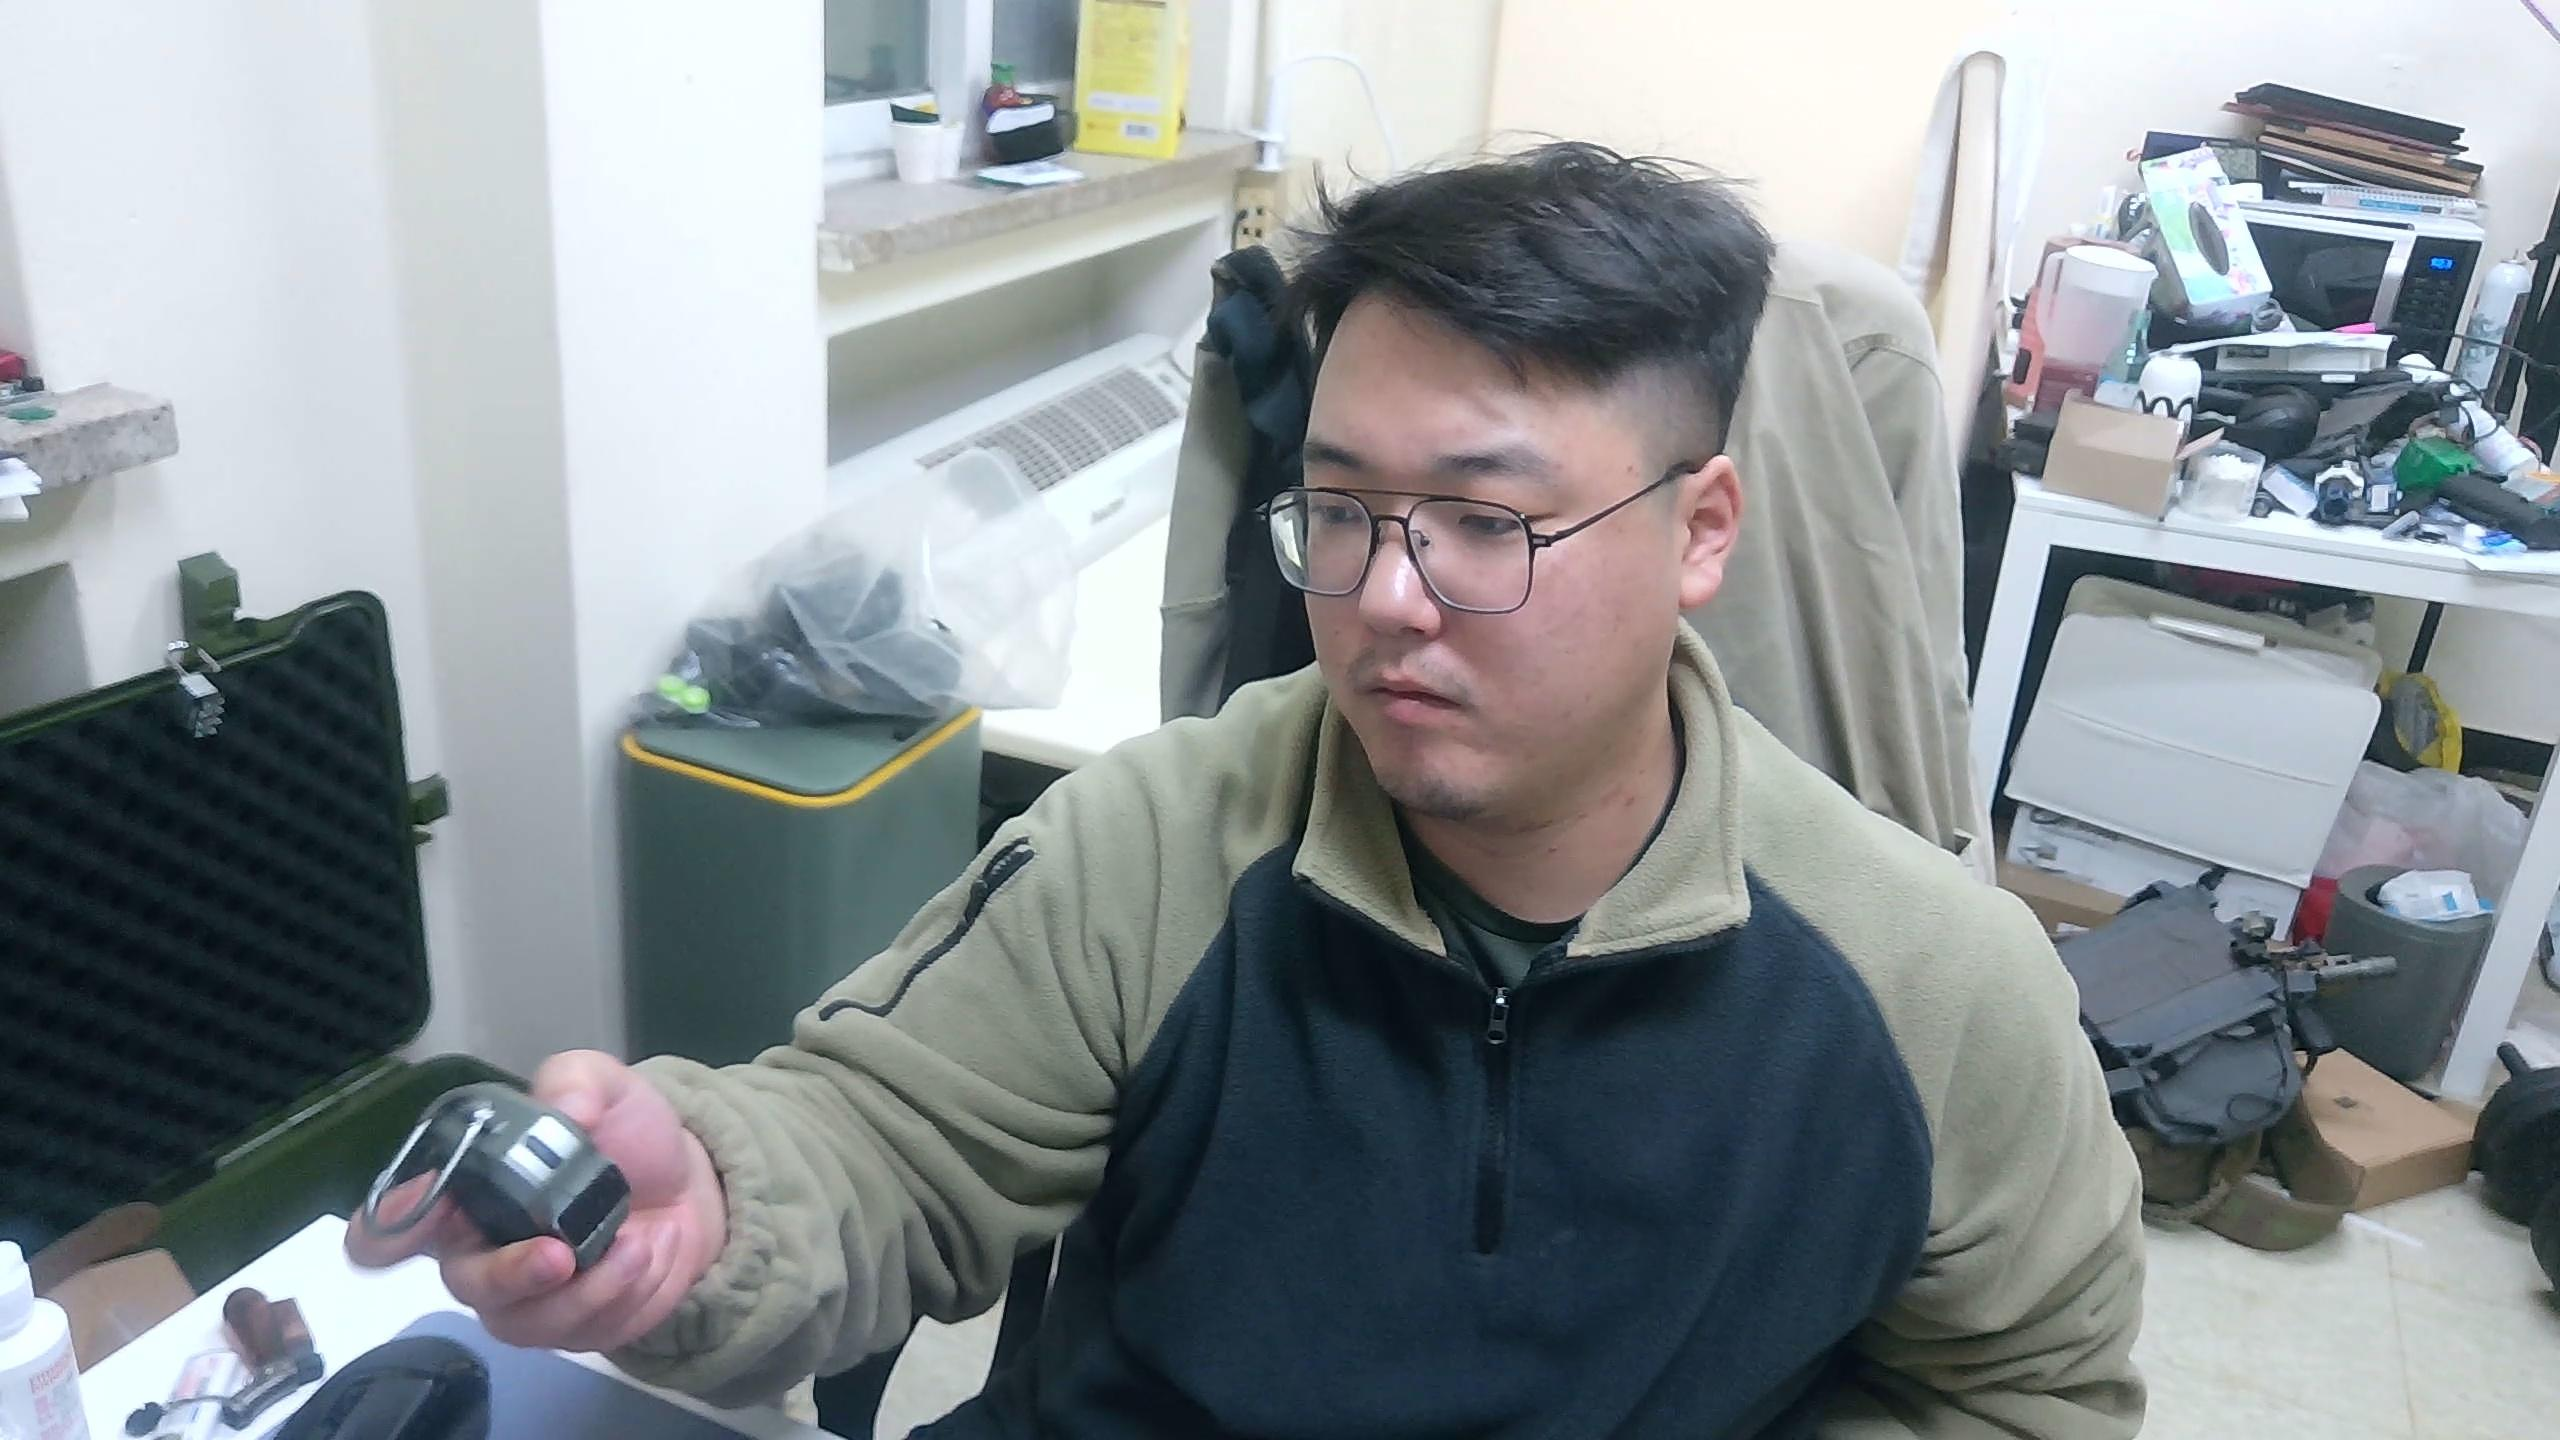blue_pliers: (362, 1078, 636, 1278)
